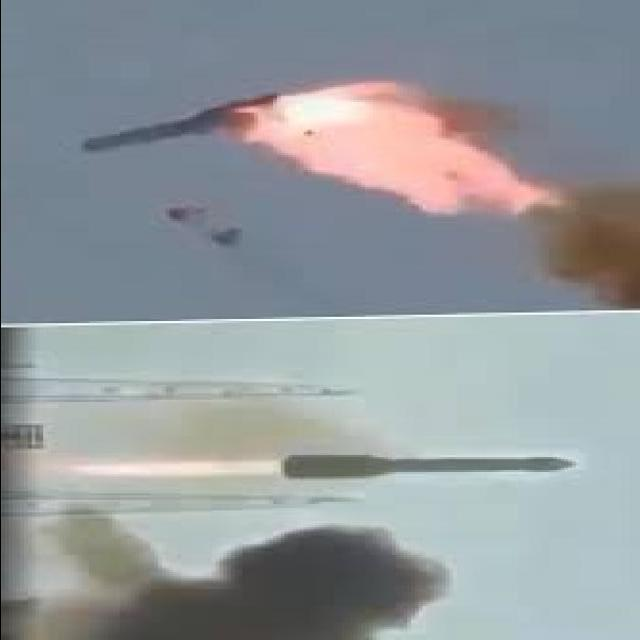missile: (65, 103, 250, 163), (278, 450, 579, 482)
